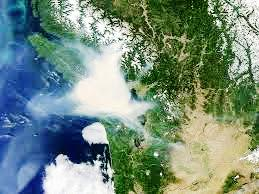smoke: (68, 36, 147, 125)
